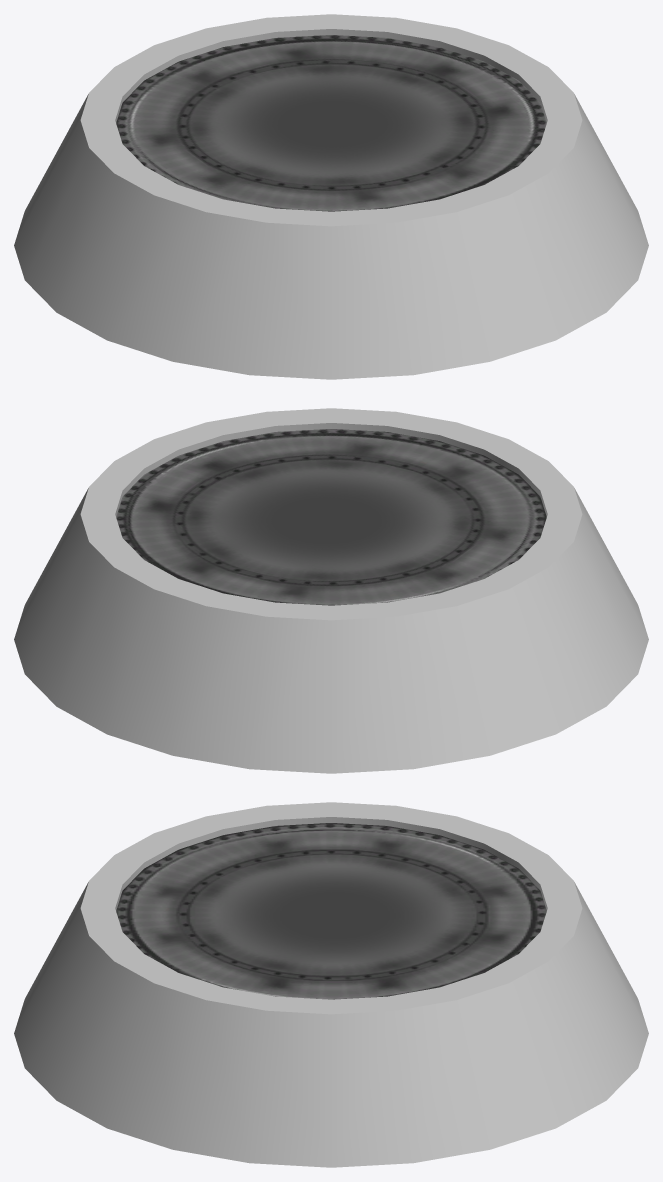
File: Titan1_FuelTank_BigAdapterShort.dae
3 renders of one model, top to bottom at view 1: azimuth 30°, elevation 25°; view 2: azimuth 150°, elevation 25°; view 3: azimuth 270°, elevation 25°, orthographic.
Parts seen in each view (by area): view 1: Titan1_Adapter_1875to15_Short, pCylinder48; view 2: Titan1_Adapter_1875to15_Short, pCylinder48; view 3: Titan1_Adapter_1875to15_Short, pCylinder48.
Boxes of the visible parts, left/top/right/bottom form: Titan1_Adapter_1875to15_Short: left=14, top=14, right=648, bottom=379; pCylinder48: left=116, top=35, right=546, bottom=211; Titan1_Adapter_1875to15_Short: left=14, top=408, right=648, bottom=773; pCylinder48: left=116, top=429, right=546, bottom=605; Titan1_Adapter_1875to15_Short: left=14, top=802, right=648, bottom=1167; pCylinder48: left=116, top=823, right=546, bottom=999.
Bounding box in the file's own units: 1.88 × 0.4083 × 1.88.
